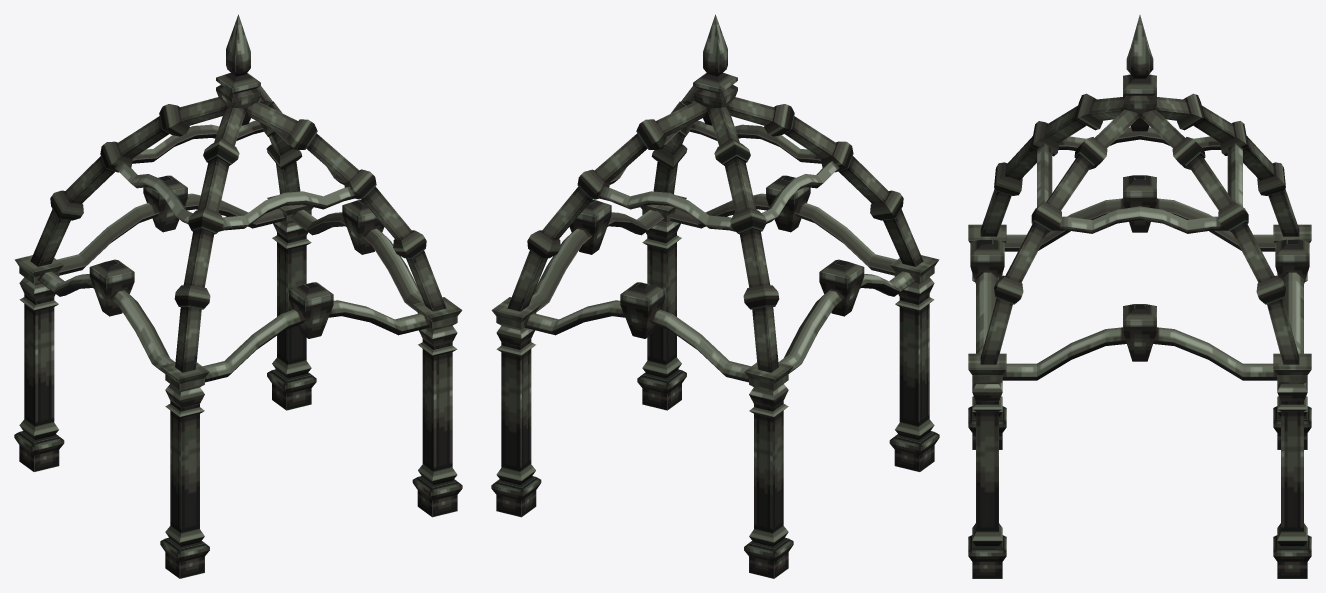
File: ObjMD_Daiseido_Arch.FBX
3 renders of one model, left to right at view 1: azimuth 30°, elevation 25°; view 2: azimuth 150°, elevation 25°; view 3: azimuth 270°, elevation 25°, orthographic. The views are drawn at different scales.
Parts seen in each view (by area): view 1: ObjMD_Daiseido_Arch; view 2: ObjMD_Daiseido_Arch; view 3: ObjMD_Daiseido_Arch.
Part boxes in pixels (left/top/right/bottom): ObjMD_Daiseido_Arch: left=14, top=14, right=462, bottom=578; ObjMD_Daiseido_Arch: left=491, top=14, right=939, bottom=578; ObjMD_Daiseido_Arch: left=968, top=15, right=1311, bottom=578.
Size of the model in its own units: 563 by 894 by 563.
